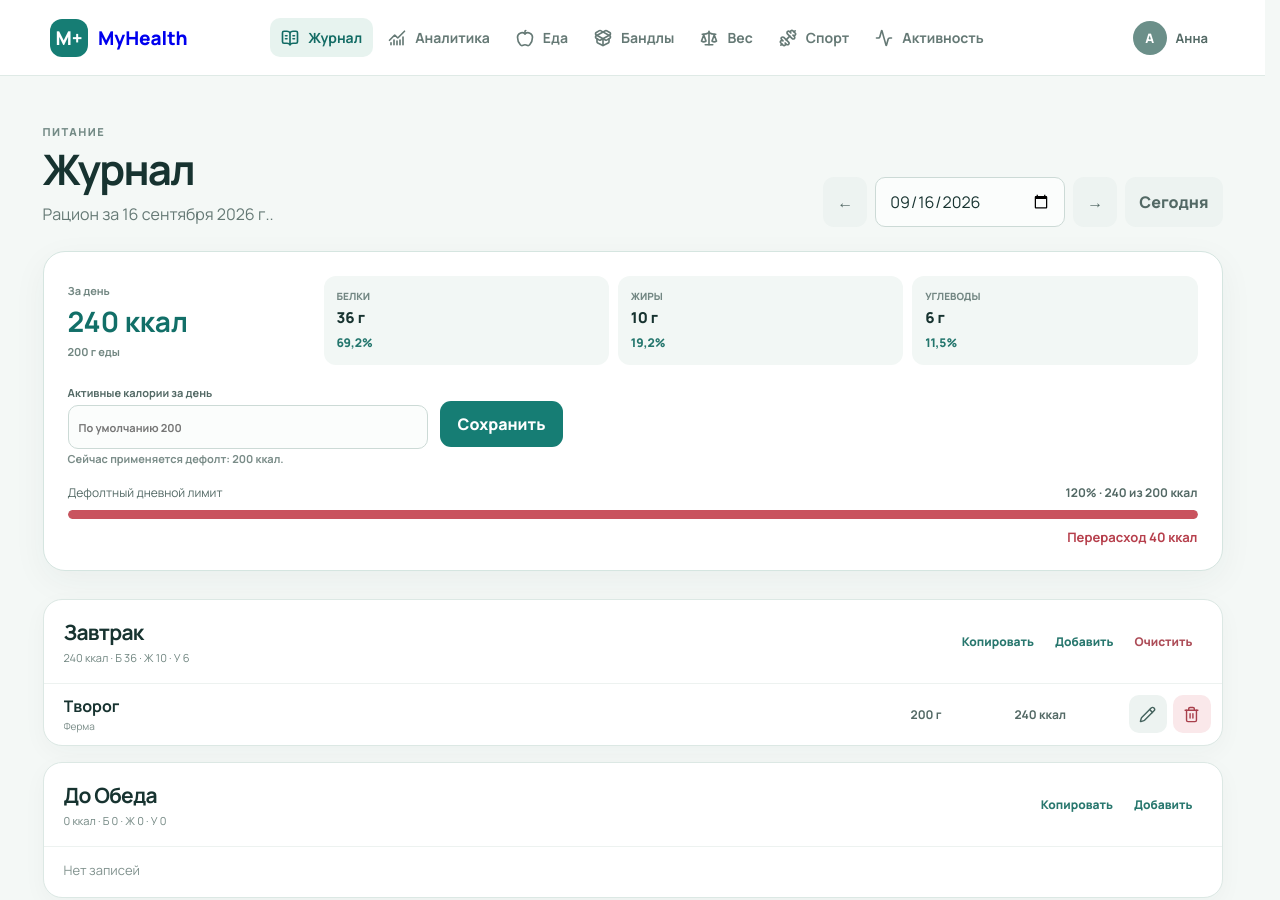
Test case: MyHealth SPA › показывает журнал, массовые проценты БЖУ и удаляет продукт после подтверждения
This screenshot has width=1280, height=900.
Expected: the heading "Журнал" is shown, [42,140,194,198]
Expected: the date field named "Дата журнала" holds "2026-09-16", [875,177,1065,227]
Click the button named "Удалить Творог из завтрак": [1192, 714] box [1172,695,1210,733]
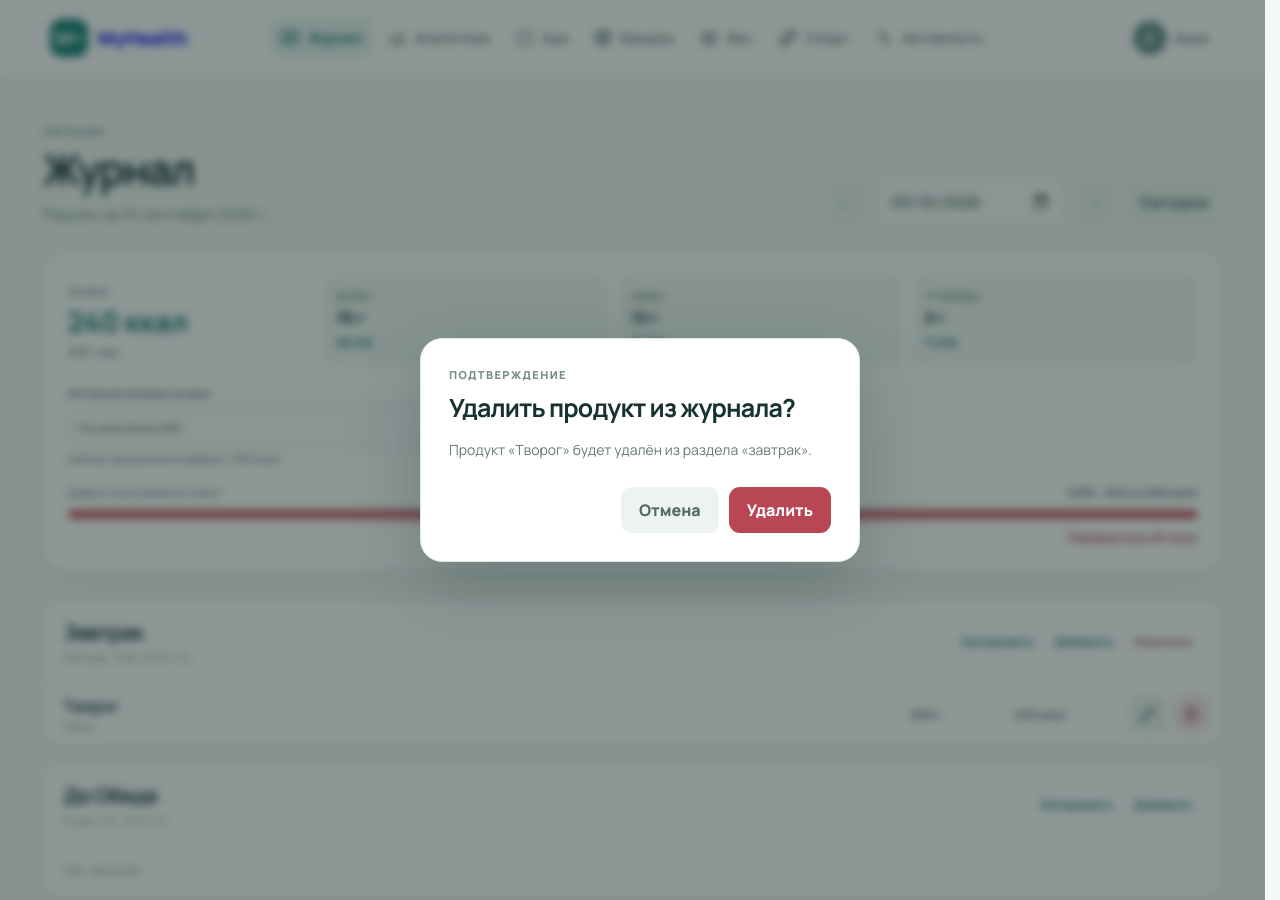
Click the button "Удалить": [780, 510] box [729,487,831,533]
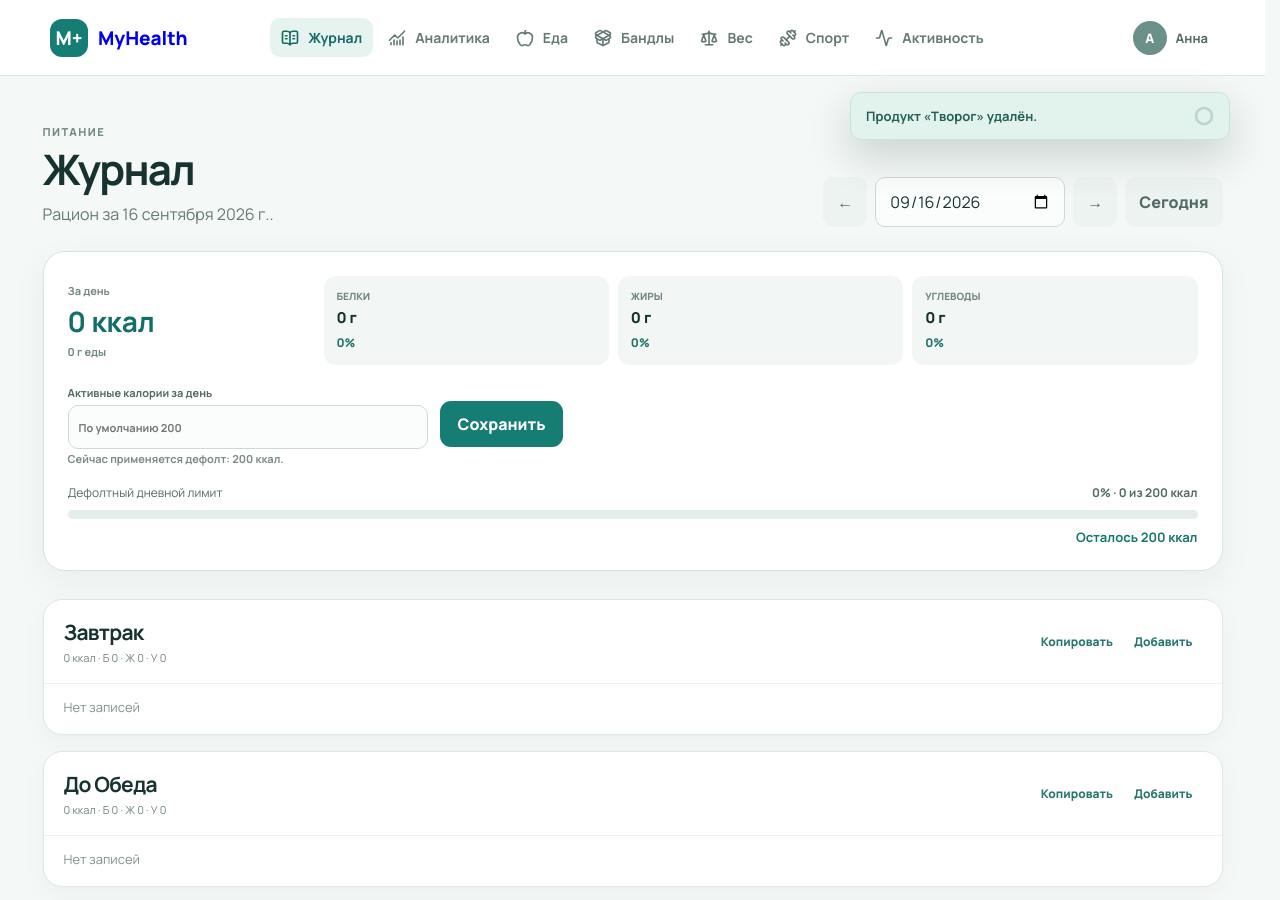
Expected: the text "Продукт «Творог» удалён." is shown, [866,107,1037,125]
